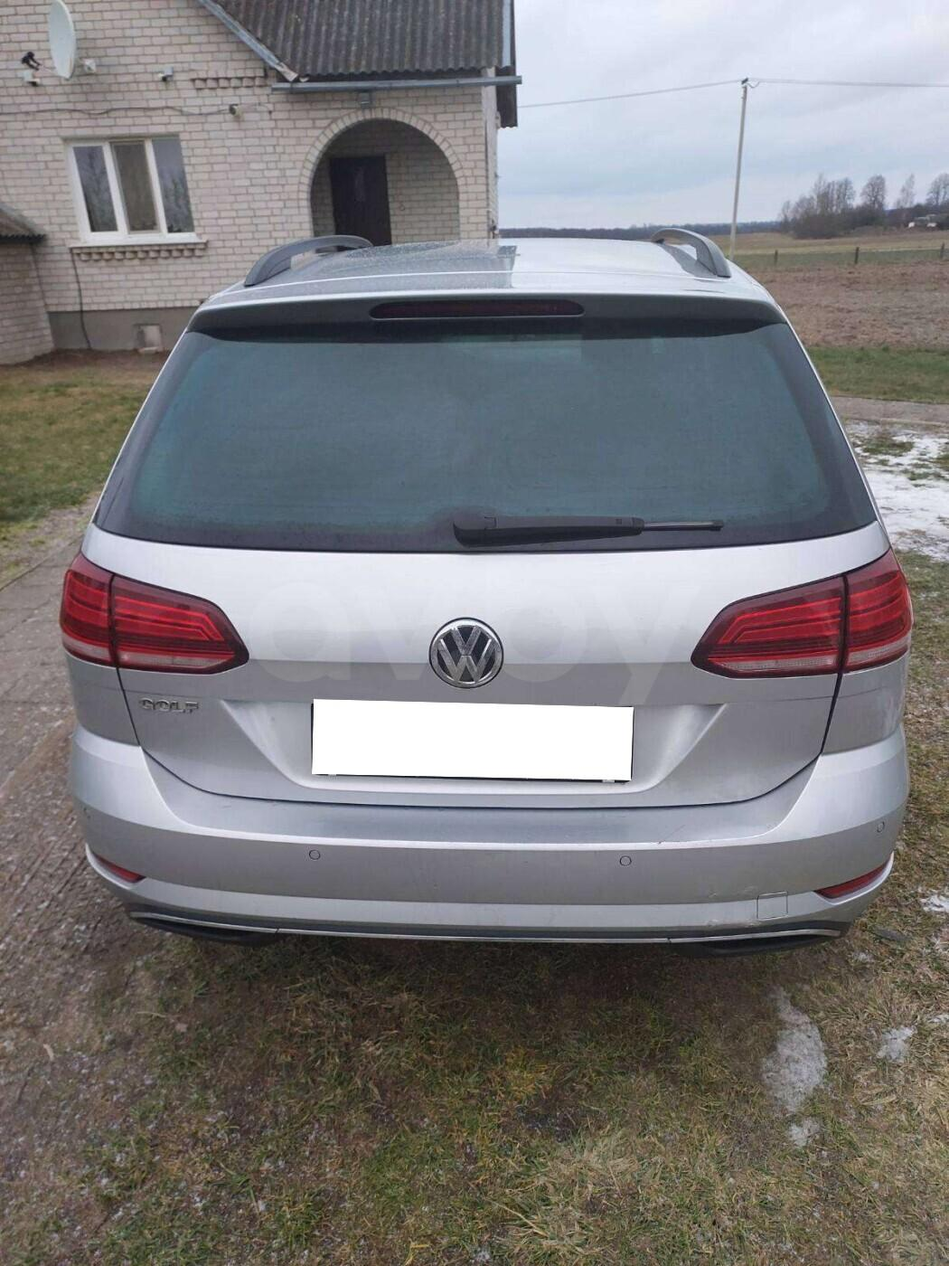Golf_2017-2021: (50, 224, 917, 946)
